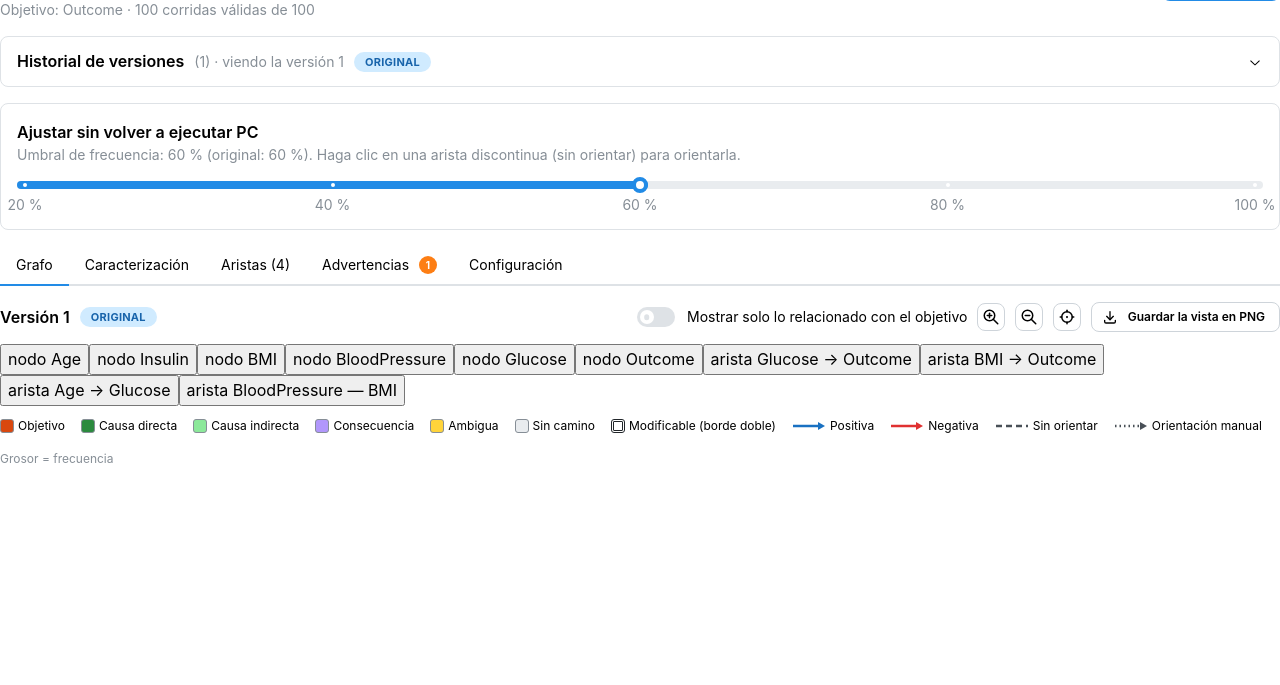
Resultados: pestañas › advertencias, configuración original con los ajustes de la versión y panel de la variable
The image size is (1280, 685).
Click the button "nodo Insulin".
click(143, 360)  # box [89,344,197,375]
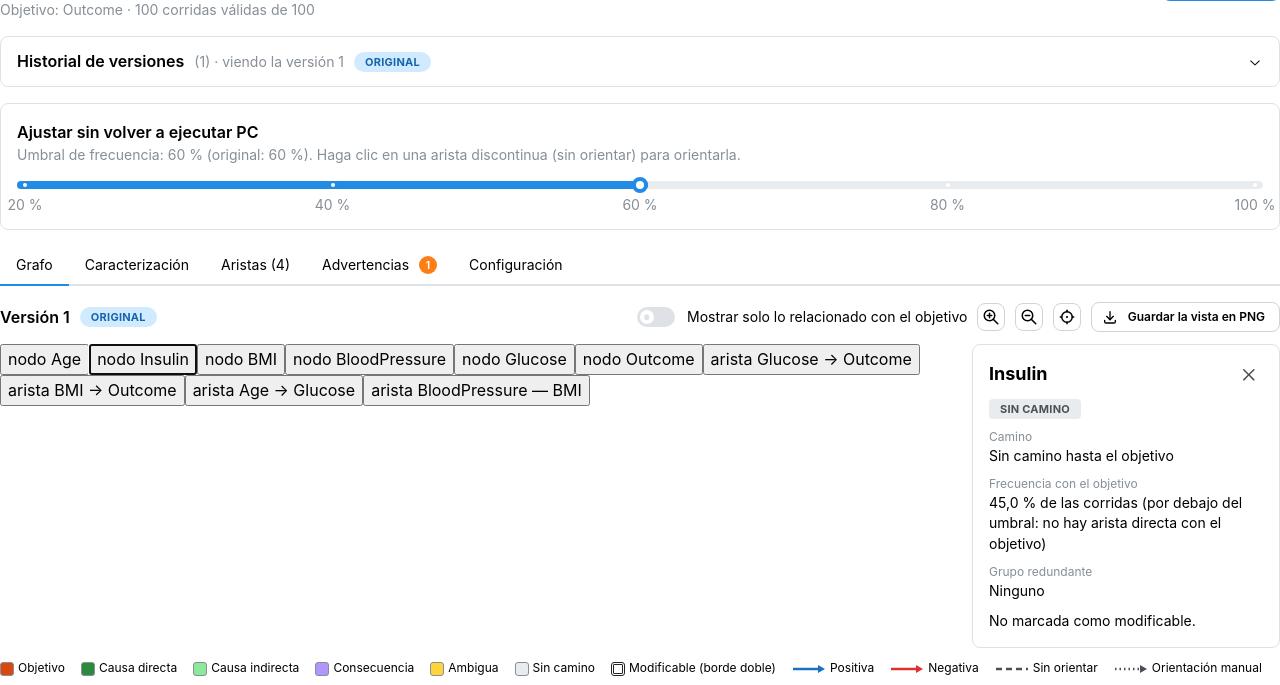
Now the element with test id "panel-variable" shows "Sin camino", box [1000,402,1070,416]
Now the element with test id "panel-variable" shows "45,0 % de las corridas (por debajo del umbral", box [972,344,1279,648]
Click the tab "Advertencias 1".
click(380, 266)  # box [306,246,453,286]
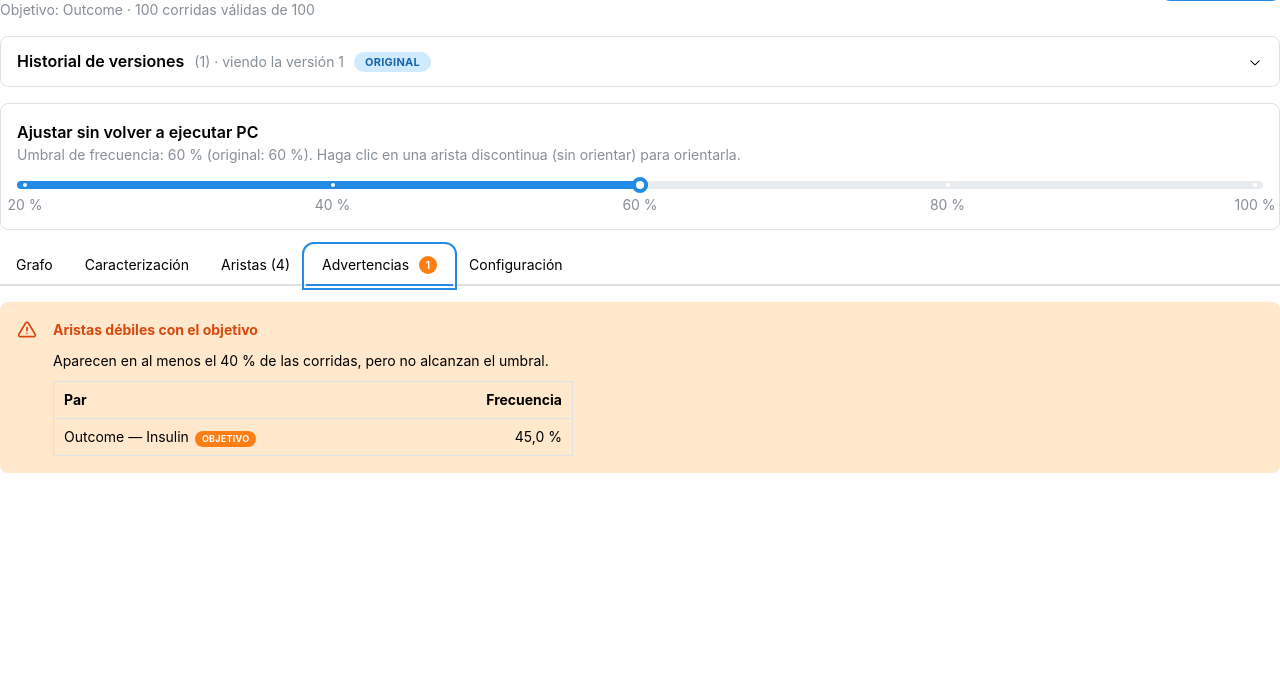
Now the text "Aristas débiles con el objetivo" is shown, box [53,319,258,341]
Now the text "Outcome — Insulin" is shown, box [54,418,411,455]
Click the tab "Configuración".
click(516, 266)  # box [453,246,578,286]
(page scrolled)
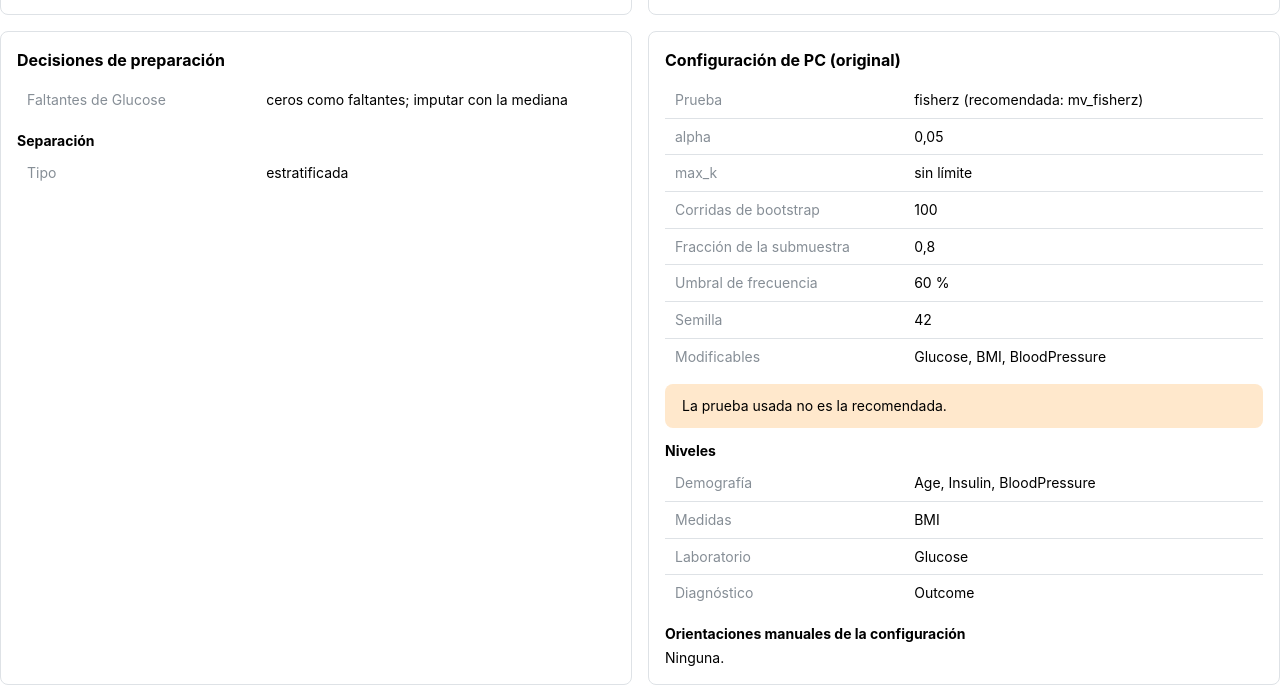
Now the heading "Configuración de PC (original)" is shown, box [665,50,901,70]
Now the text "fisherz (recomendada: mv_fisherz)" is shown, box [904,82,1263,118]
Now the text "La prueba usada no es la recomendada." is shown, box [682,397,947,414]
